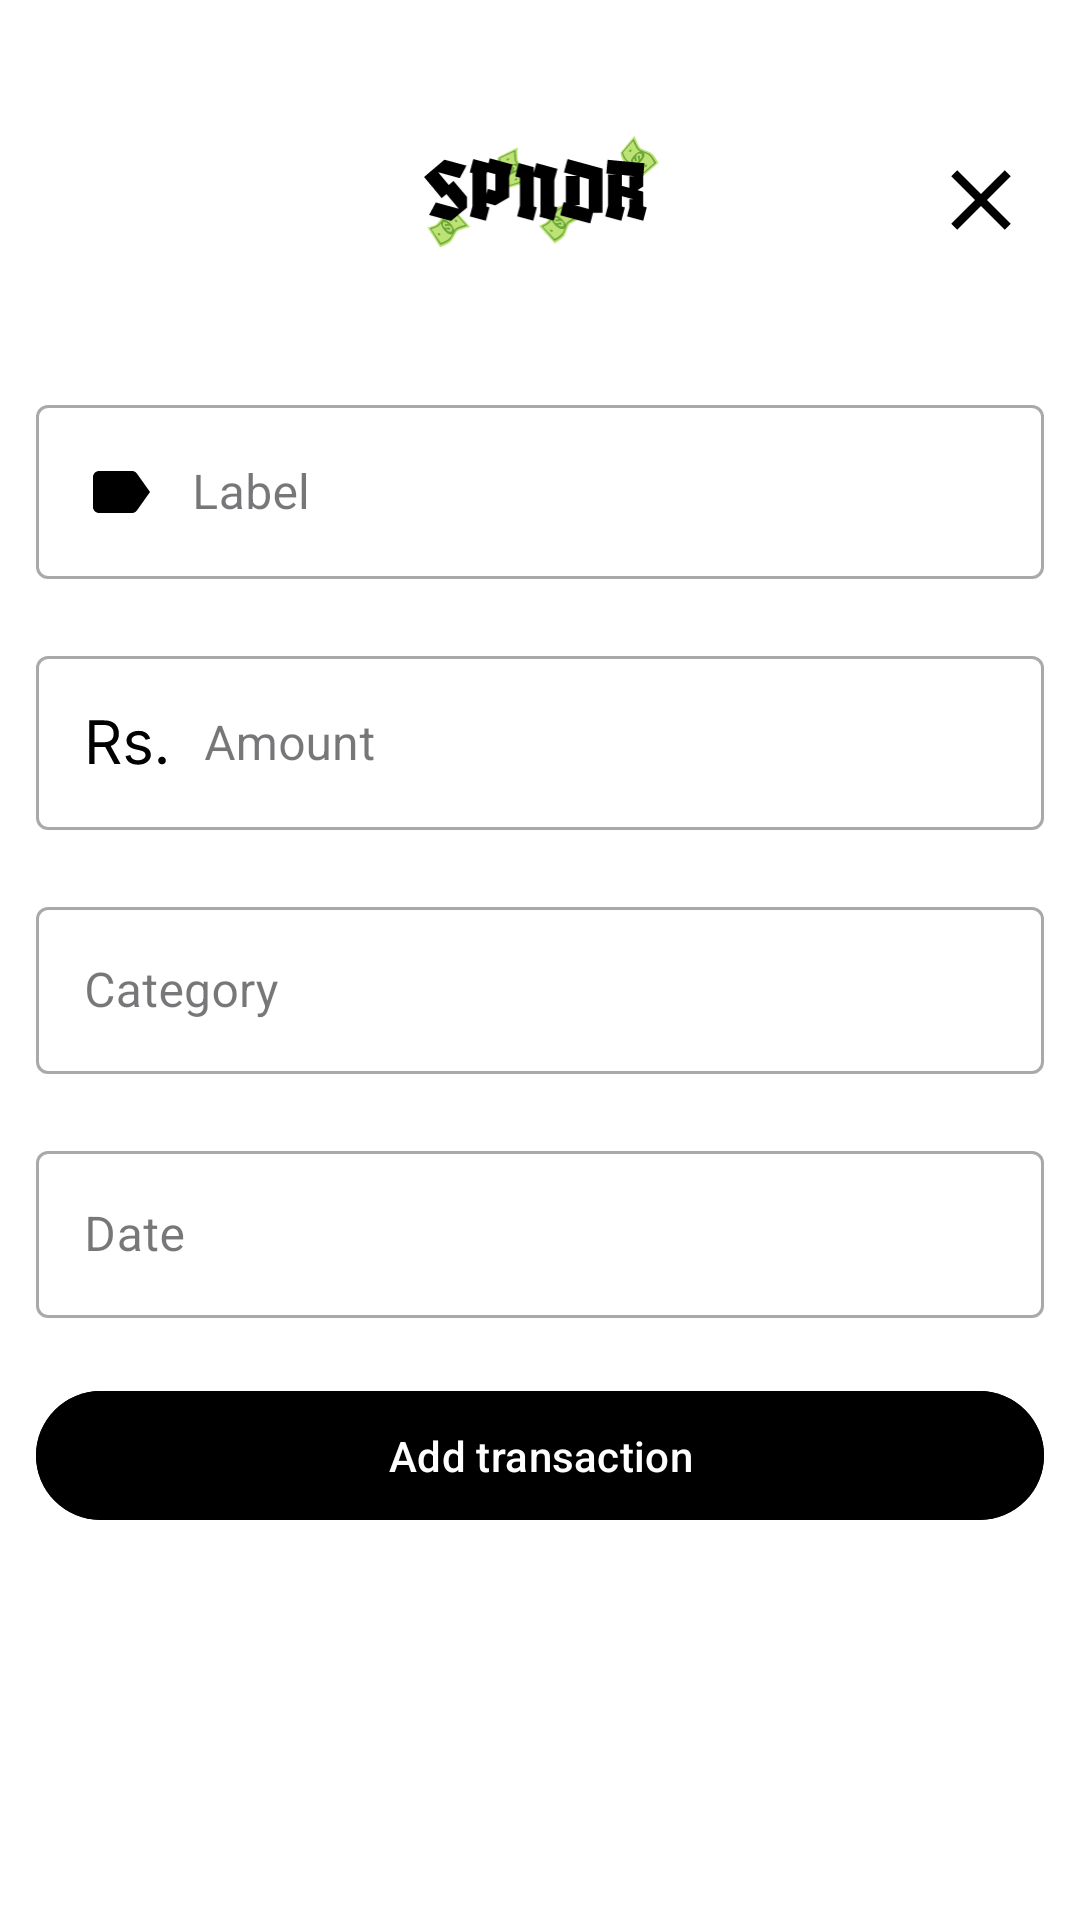

Screen size 1080*1920. Icon name, then its center in pixels as [x,y]:
close: [981,200]
